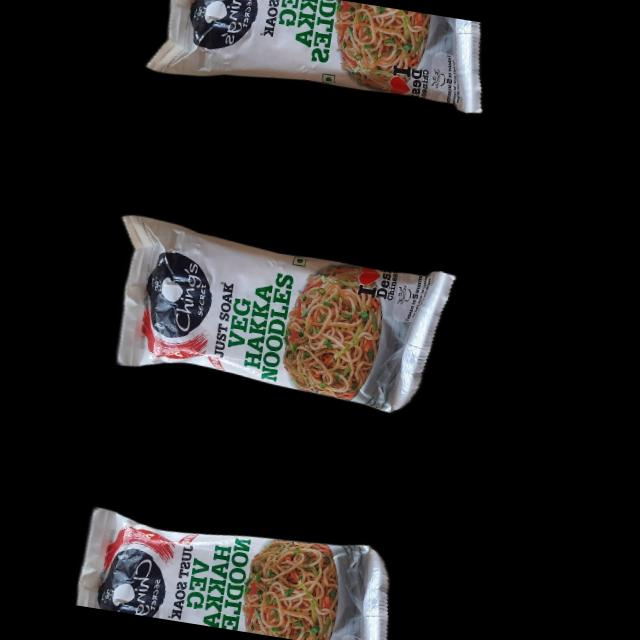Chings Secret Veg Hakka Noodles 140 g Pouch: (94, 199, 458, 431), (58, 488, 412, 640), (140, 0, 494, 136)
